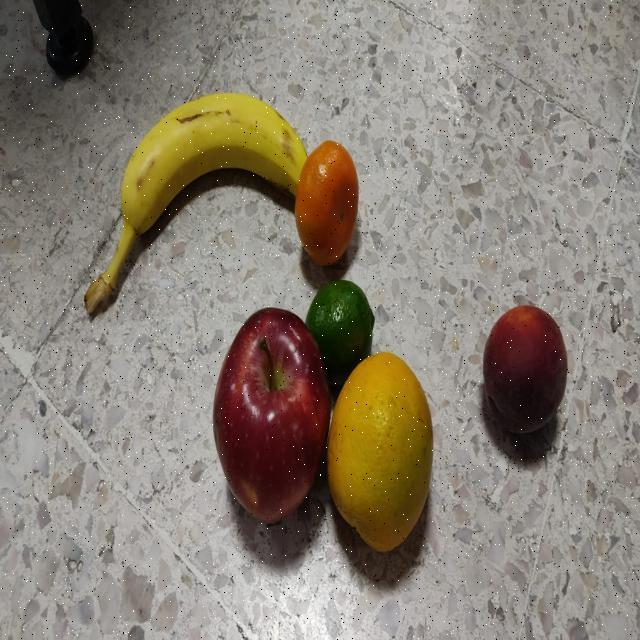Apel Merah: (210, 295, 334, 528)
Jeruk: (322, 347, 439, 562)
Jeruk Mandarin: (290, 134, 366, 274)
Lemon: (301, 276, 383, 387)
Persik: (482, 302, 572, 444)
Pisang: (74, 87, 315, 327)
